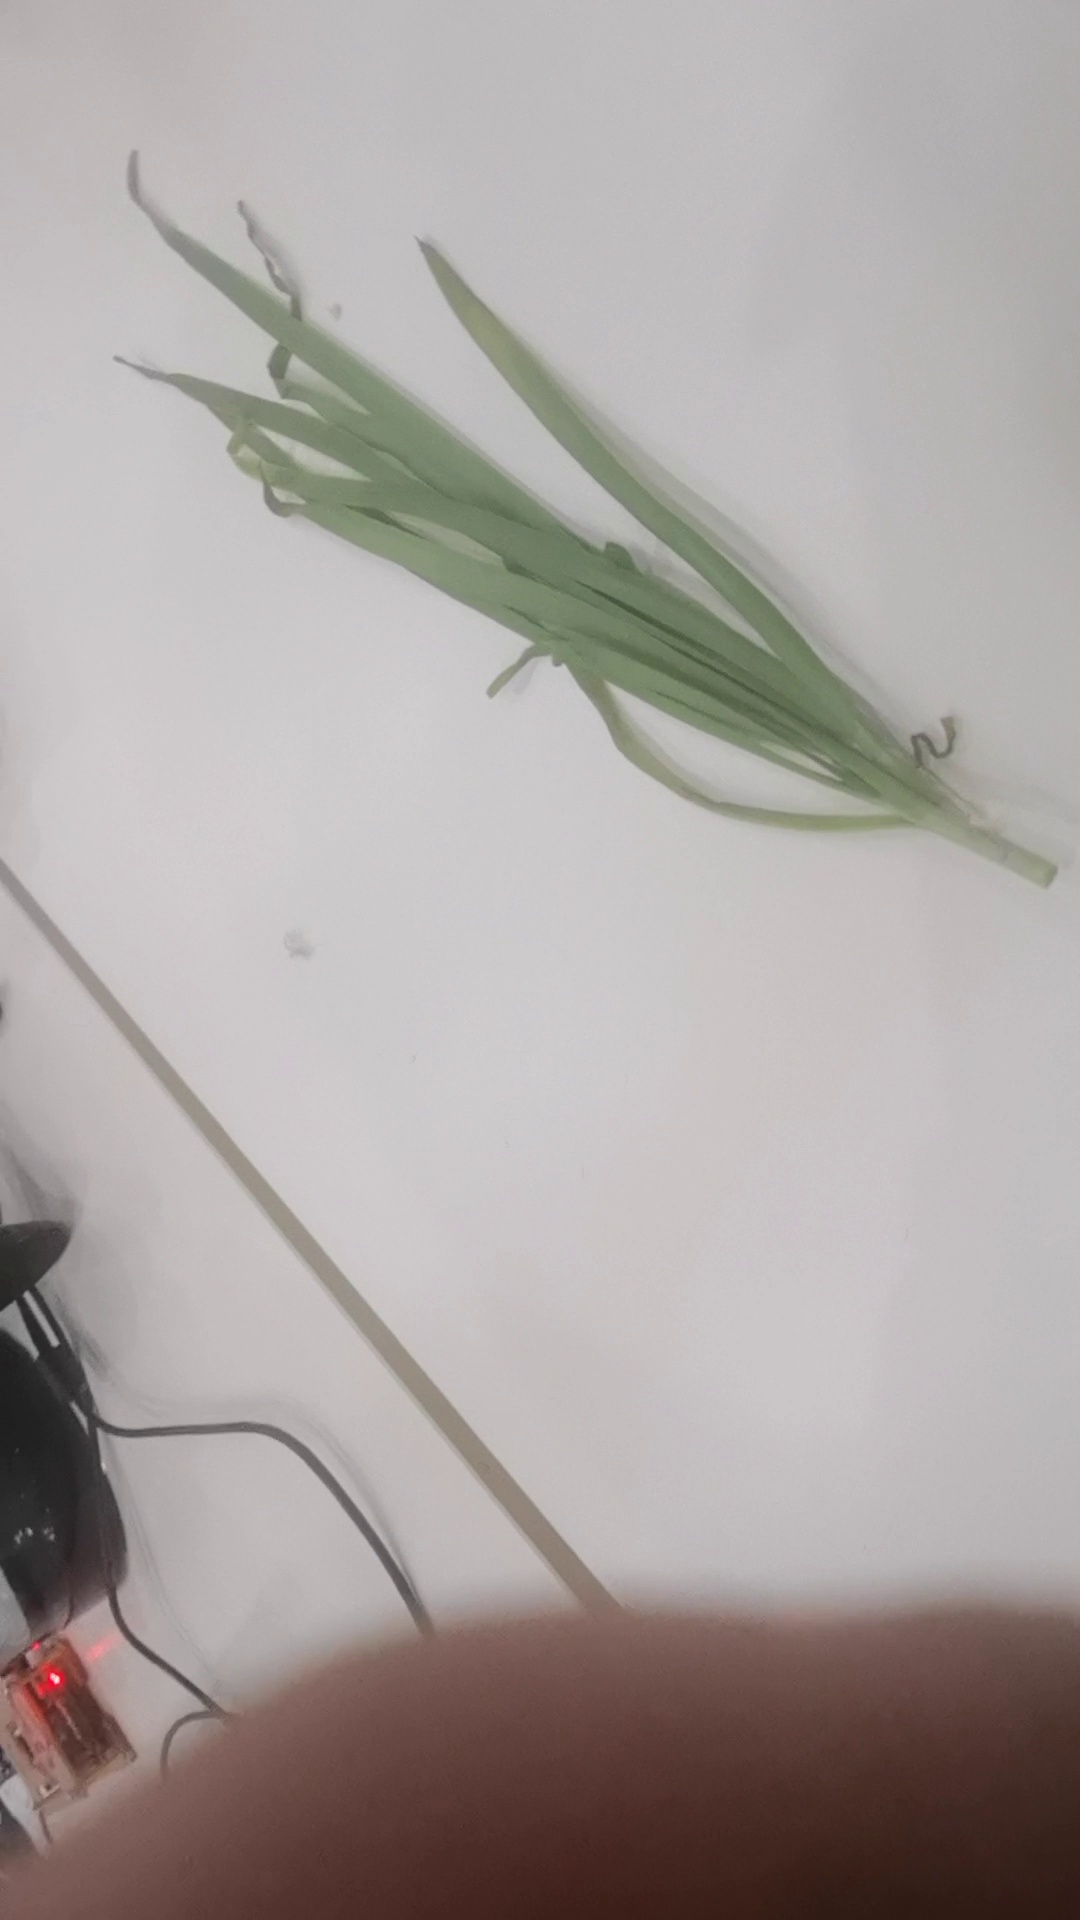chives: (16, 133, 1063, 892)
